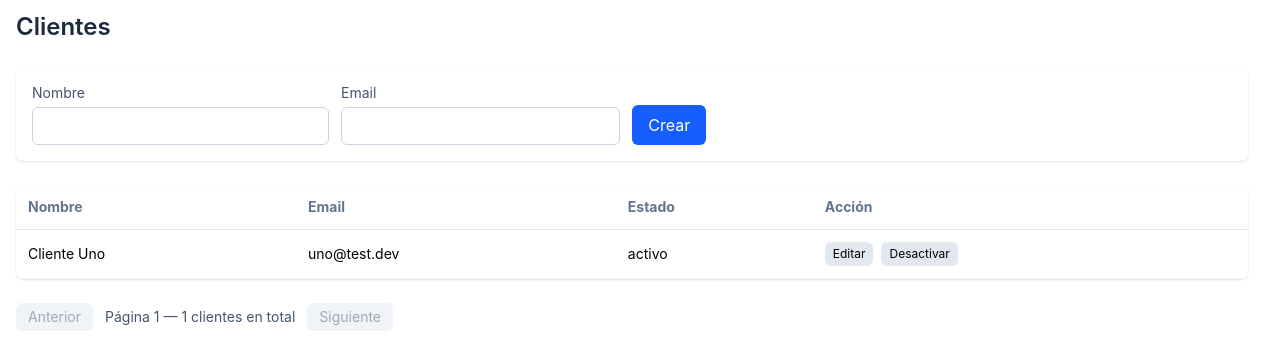
da de baja un cliente (activo -> false)
The width and height of the screenshot is (1265, 348).
Check: the text "Cliente Uno" is shown, box 16,230 -> 296,278
Click the button "Desactivar".
click(920, 254)  # box 882,242 -> 958,266
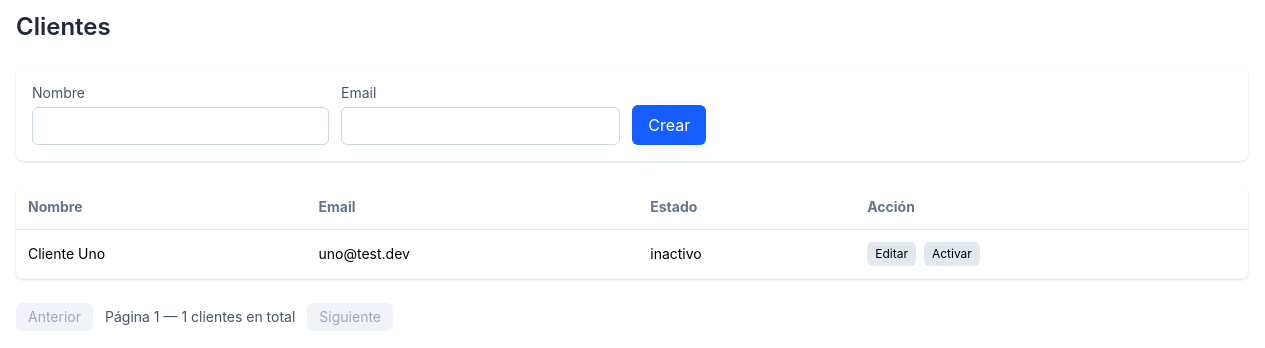
Check: the text "inactivo" is shown, box 638,230 -> 855,278
